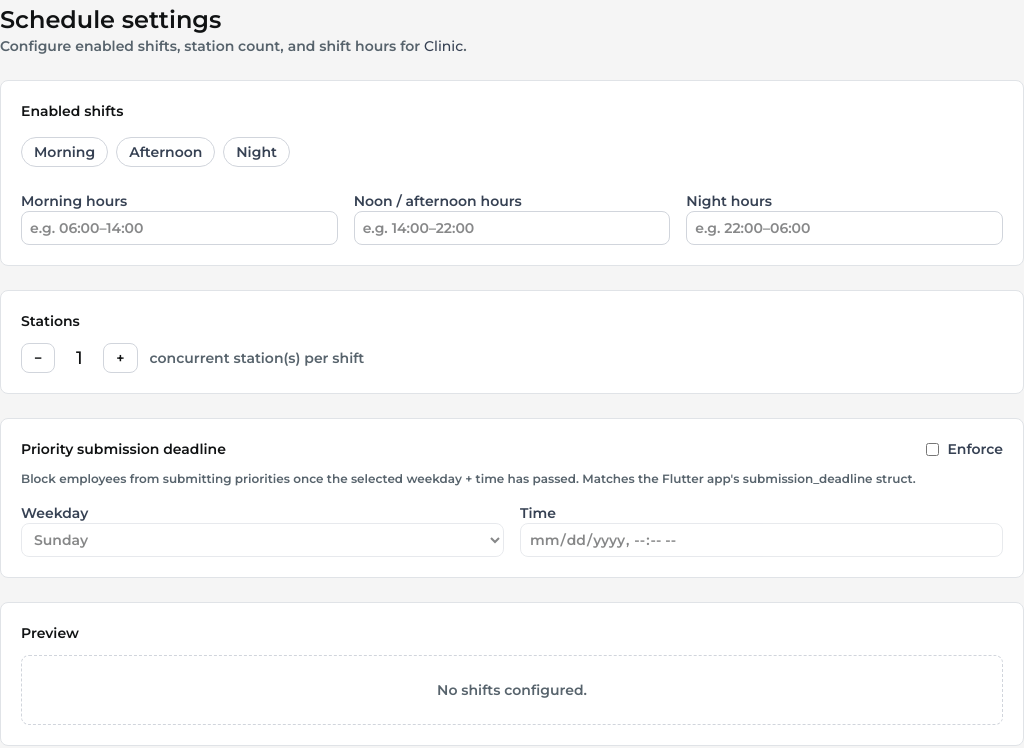
Test: ScheduleSettingsClient › saves settings and shows the success message
This screenshot has width=1024, height=748.
// Toggle a shift + change stations count
Click the button "morning": (65, 152) 21,137 -> 108,167
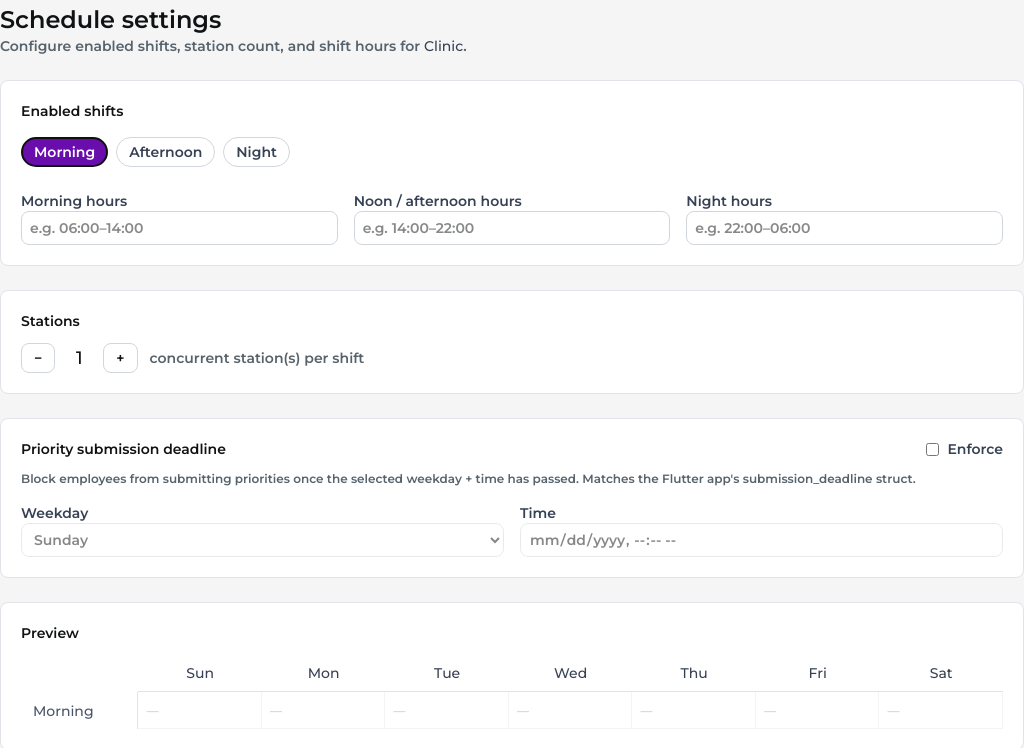
Click the button "+": (120, 358) 103,343 -> 138,373
(page scrolled)
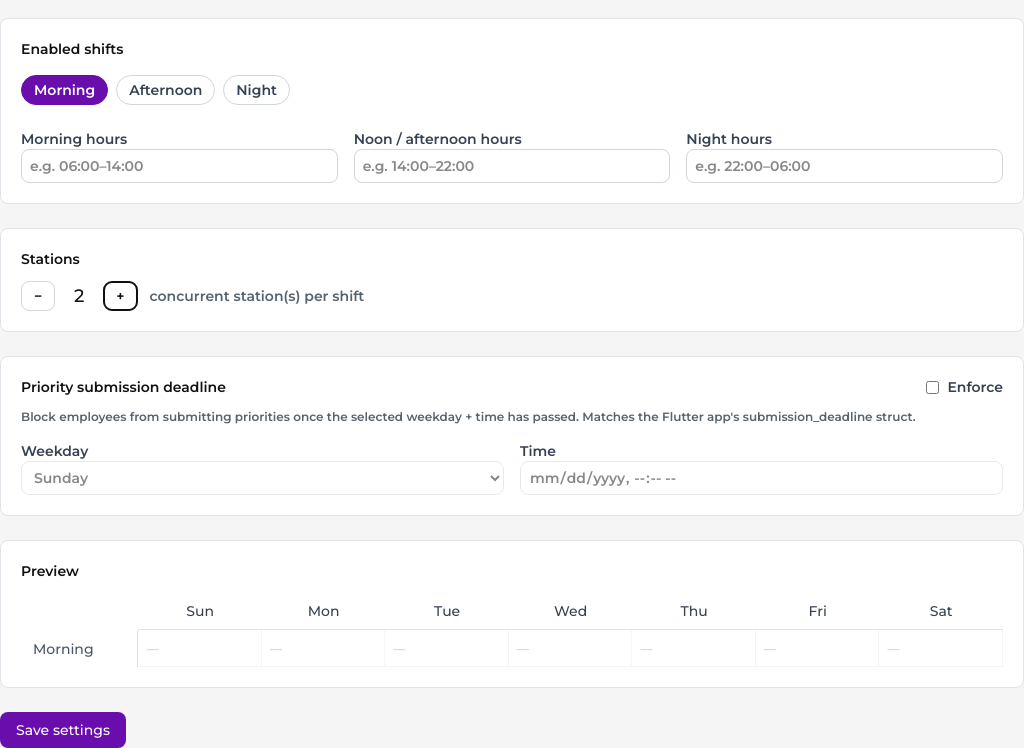
Click the button "Save settings": (63, 730) 0,712 -> 126,747
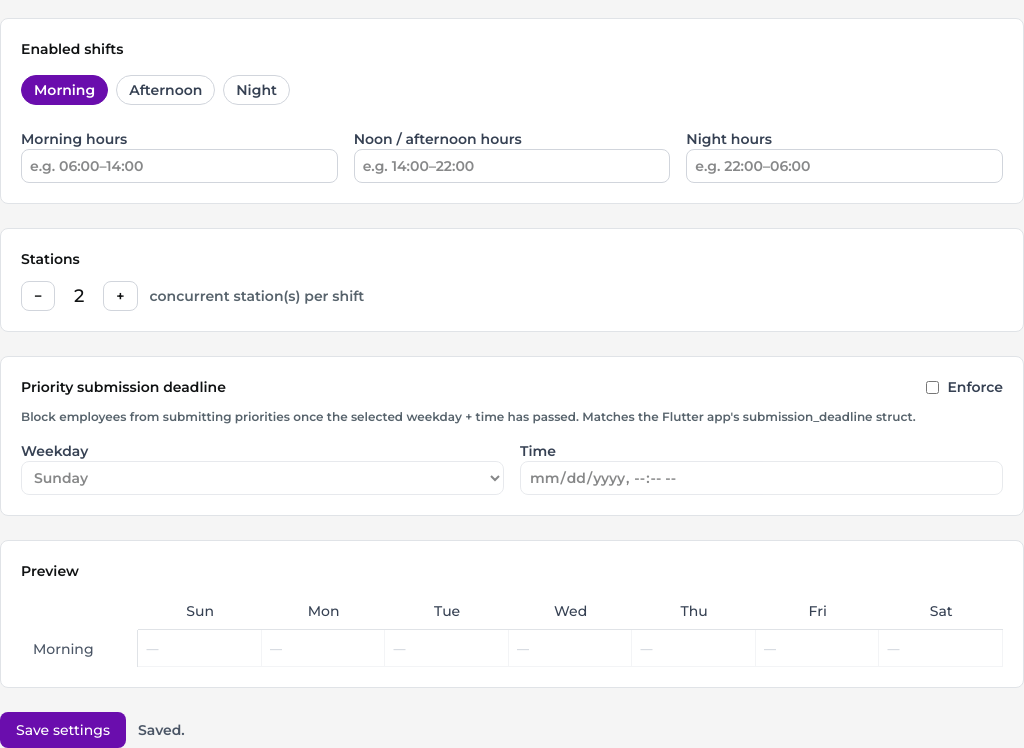
Check: the text "Saved." is shown, box 138,720 -> 185,740
